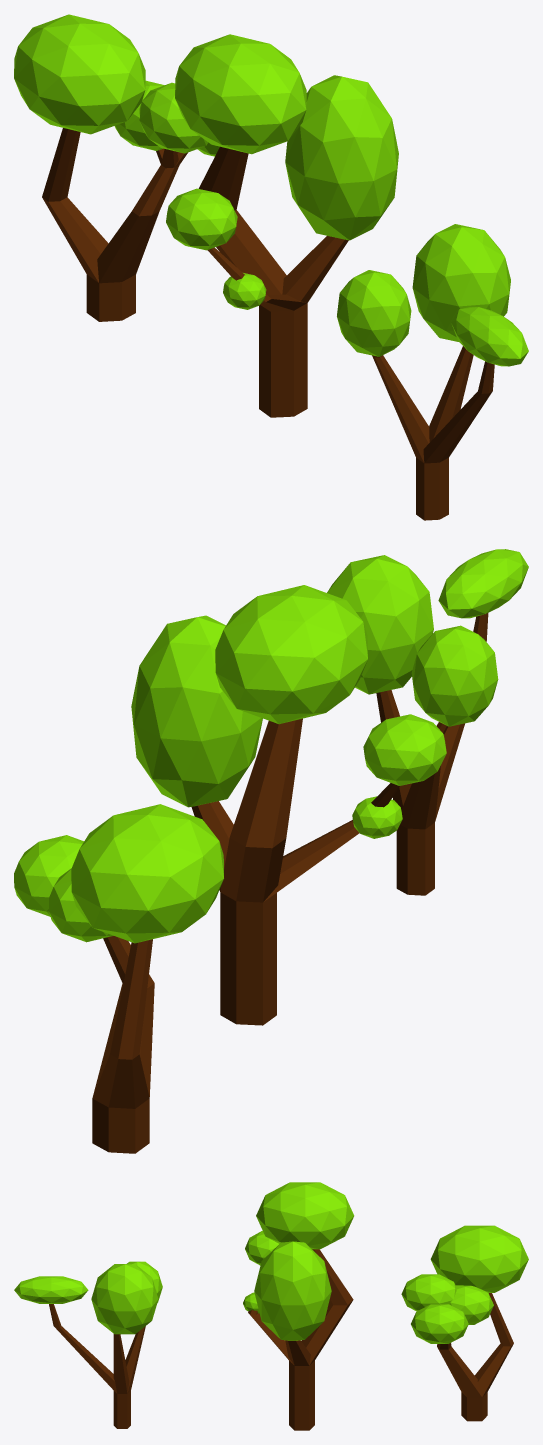
File: AgacLowPoly.fbx
The picture shows the model from 3 angles, top to bottom: view 1: azimuth 30°, elevation 25°; view 2: azimuth 150°, elevation 25°; view 3: azimuth 270°, elevation 25°; orthographic projection. The views are drawn at different scales.
Visible parts, largest first — view 1: Cube.098, Cube.095, Cube.099; view 2: Cube.098, Cube.095, Cube.099; view 3: Cube.098, Cube.095, Cube.099.
Part boxes in pixels (bbox=[...]): Cube.098: bbox=[166, 34, 398, 417]; Cube.095: bbox=[14, 14, 219, 321]; Cube.099: bbox=[337, 224, 528, 520]; Cube.098: bbox=[131, 585, 446, 1025]; Cube.095: bbox=[14, 804, 223, 1153]; Cube.099: bbox=[327, 549, 528, 895]; Cube.098: bbox=[243, 1182, 354, 1430]; Cube.095: bbox=[401, 1225, 528, 1421]; Cube.099: bbox=[14, 1261, 162, 1428].
Bounding box in the file's own units: 137 × 207 × 423.
